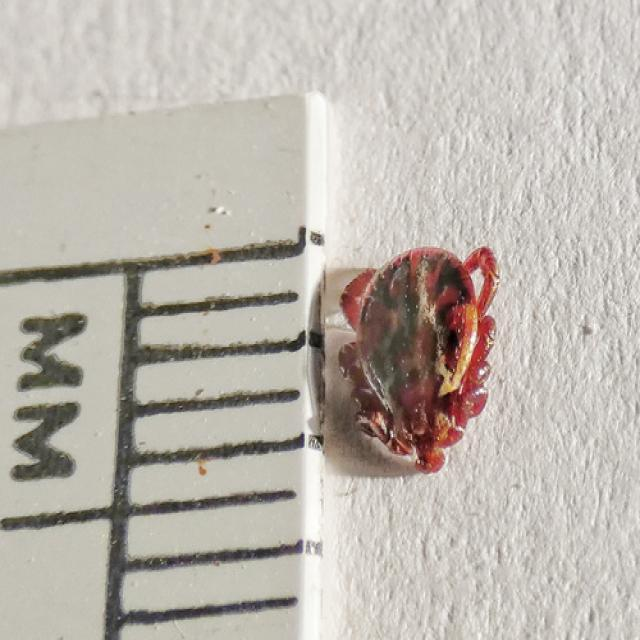Dermacentor Reticulatus-M: (338, 248, 498, 474)
